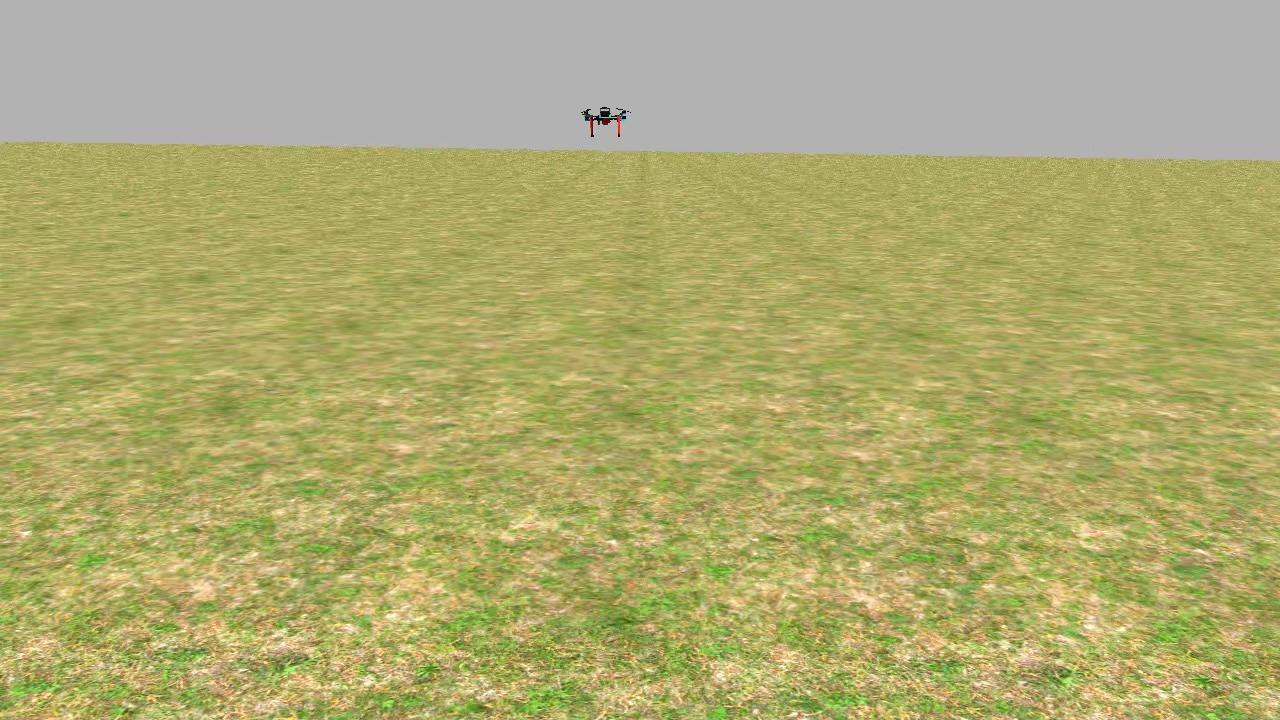UAV: (568, 93, 632, 144)
